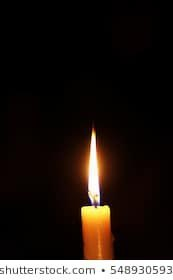fire: (84, 125, 101, 204)
